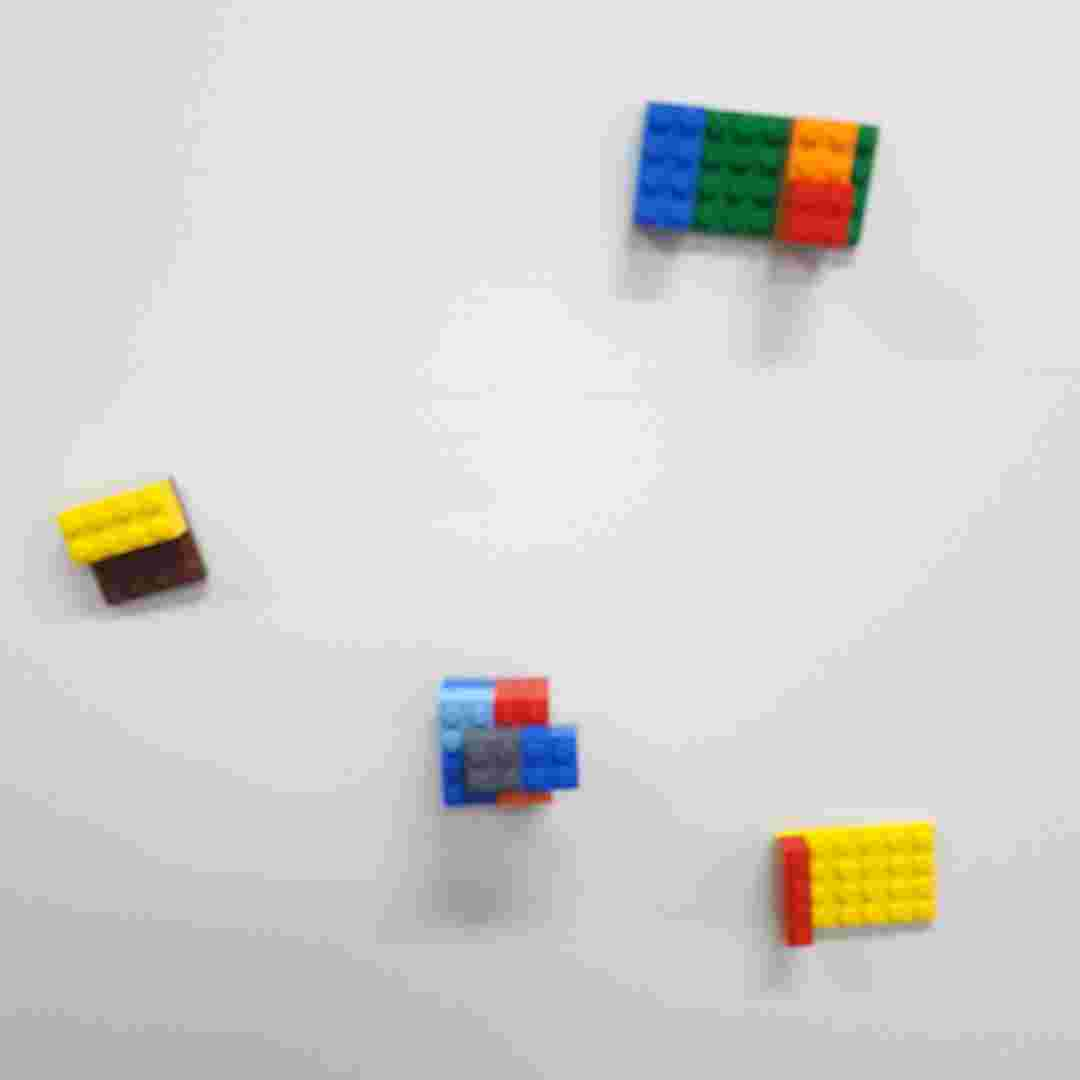LEGO: (623, 99, 881, 256), (771, 819, 945, 949), (52, 474, 209, 614), (440, 670, 580, 812)
